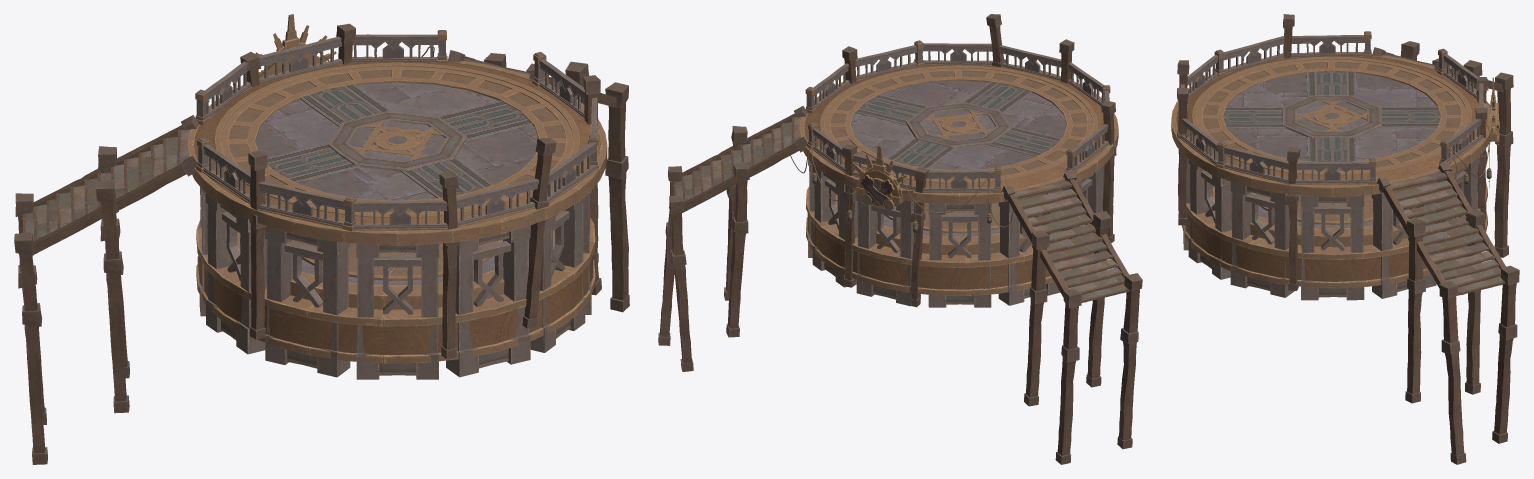
The model's file is Homeworld_Exterior_Fd_Build_Quantai_01_Lod0.fbx.
3 renders of one model, left to right at view 1: azimuth 30°, elevation 25°; view 2: azimuth 150°, elevation 25°; view 3: azimuth 270°, elevation 25°, orthographic. The views are drawn at different scales.
Visible parts, largest first — view 1: Level_Fd_Build_Zhuangshi_B_01A_Lod0(Clone), Area_Fd_Build_SXGC_Qiakou_A_01_Vo(Clone) (×6), Area_Fd_Build_SXGC_Xsd_Zhuzi_A_01_Lod0(Clone) (×10), Area_Fd_Build_SXGC_Zhuangshi_D_01_Lod0(Clone), Area_Fd_Build_SXGC_Weilan_A_01_Vo(Clone) (×9), Area_Fd_Build_SXGC_Xsd_Tieban_D_01_Lod0(Clone) (×2), Level_Fd_Prop_Zhaopai_03A_Climb_Lod0(Clone); view 2: Level_Fd_Build_Zhuangshi_B_01A_Lod0(Clone), Area_Fd_Build_SXGC_Xsd_Zhuzi_A_01_Lod0(Clone) (×13), Area_Fd_Build_SXGC_Xsd_Tieban_D_01_Lod0(Clone) (×2), Area_Fd_Build_SXGC_Qiakou_A_01_Vo(Clone) (×5), Area_Fd_Build_SXGC_Zhuangshi_D_01_Lod0(Clone), Area_Fd_Build_SXGC_Weilan_A_01_Vo(Clone) (×9), Level_Fd_Prop_Zhaopai_03A_Climb_Lod0(Clone); view 3: Level_Fd_Build_Zhuangshi_B_01A_Lod0(Clone), Area_Fd_Build_SXGC_Xsd_Zhuzi_A_01_Lod0(Clone) (×9), Area_Fd_Build_SXGC_Qiakou_A_01_Vo(Clone) (×5), Area_Fd_Build_SXGC_Zhuangshi_D_01_Lod0(Clone), Area_Fd_Build_SXGC_Xsd_Tieban_D_01_Lod0(Clone) (×2), Area_Fd_Build_SXGC_Weilan_A_01_Vo(Clone) (×8), Level_Fd_Prop_Zhaopai_03A_Climb_Lod0(Clone).
Boxes of the visible parts, bbox=[...] form: Level_Fd_Build_Zhuangshi_B_01A_Lod0(Clone): bbox=[187, 56, 607, 245]; Area_Fd_Build_SXGC_Qiakou_A_01_Vo(Clone) (×6): bbox=[197, 187, 585, 379]; Area_Fd_Build_SXGC_Xsd_Zhuzi_A_01_Lod0(Clone) (×10): bbox=[14, 61, 629, 464]; Area_Fd_Build_SXGC_Zhuangshi_D_01_Lod0(Clone): bbox=[196, 218, 595, 363]; Area_Fd_Build_SXGC_Weilan_A_01_Vo(Clone) (×9): bbox=[202, 34, 598, 230]; Area_Fd_Build_SXGC_Xsd_Tieban_D_01_Lod0(Clone) (×2): bbox=[22, 50, 616, 254]; Level_Fd_Prop_Zhaopai_03A_Climb_Lod0(Clone): bbox=[255, 14, 336, 78]; Level_Fd_Build_Zhuangshi_B_01A_Lod0(Clone): bbox=[799, 64, 1118, 204]; Area_Fd_Build_SXGC_Xsd_Zhuzi_A_01_Lod0(Clone) (×13): bbox=[658, 14, 1142, 464]; Area_Fd_Build_SXGC_Xsd_Tieban_D_01_Lod0(Clone) (×2): bbox=[673, 106, 1129, 302]; Area_Fd_Build_SXGC_Qiakou_A_01_Vo(Clone) (×5): bbox=[812, 164, 1104, 307]; Area_Fd_Build_SXGC_Zhuangshi_D_01_Lod0(Clone): bbox=[806, 186, 1102, 295]; Area_Fd_Build_SXGC_Weilan_A_01_Vo(Clone) (×9): bbox=[812, 43, 1109, 192]; Level_Fd_Prop_Zhaopai_03A_Climb_Lod0(Clone): bbox=[845, 145, 913, 210]; Level_Fd_Build_Zhuangshi_B_01A_Lod0(Clone): bbox=[1171, 52, 1491, 196]; Area_Fd_Build_SXGC_Xsd_Zhuzi_A_01_Lod0(Clone) (×9): bbox=[1177, 14, 1519, 464]; Area_Fd_Build_SXGC_Qiakou_A_01_Vo(Clone) (×5): bbox=[1188, 156, 1479, 300]; Area_Fd_Build_SXGC_Zhuangshi_D_01_Lod0(Clone): bbox=[1182, 182, 1487, 288]; Area_Fd_Build_SXGC_Xsd_Tieban_D_01_Lod0(Clone) (×2): bbox=[1372, 47, 1505, 295]; Area_Fd_Build_SXGC_Weilan_A_01_Vo(Clone) (×8): bbox=[1180, 35, 1484, 184]; Level_Fd_Prop_Zhaopai_03A_Climb_Lod0(Clone): bbox=[1490, 77, 1499, 144].
Size of the model in its own units: 28.93 by 15.98 by 18.19.
